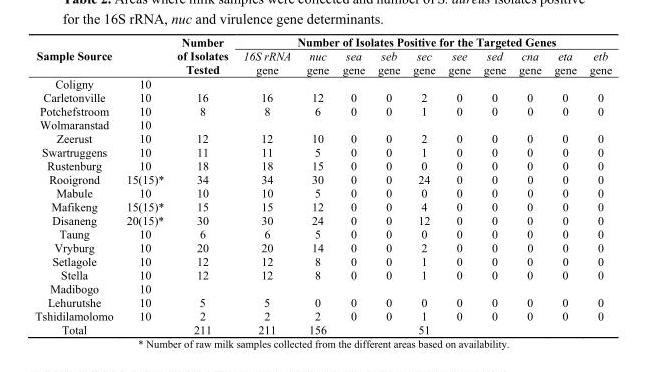table: (34, 34, 611, 335)
table column: (34, 34, 119, 335), (169, 34, 235, 335), (235, 34, 298, 335), (119, 34, 169, 335), (298, 34, 335, 335), (405, 34, 441, 335), (511, 34, 547, 335), (335, 34, 370, 335), (370, 34, 405, 335), (441, 34, 476, 335), (476, 34, 511, 335), (547, 34, 582, 335), (582, 34, 611, 335)
table column header: (34, 34, 611, 76)
table row: (34, 48, 611, 76), (34, 34, 611, 48), (34, 76, 611, 90), (34, 103, 611, 117), (34, 117, 611, 131), (34, 144, 611, 158), (34, 158, 611, 172), (34, 185, 611, 199), (34, 199, 611, 213), (34, 226, 611, 240), (34, 240, 611, 254), (34, 267, 611, 281), (34, 281, 611, 295), (34, 308, 611, 322), (34, 90, 611, 103), (34, 131, 611, 144), (34, 172, 611, 185), (34, 213, 611, 226), (34, 254, 611, 267), (34, 295, 611, 308), (34, 322, 611, 335)
table spanning cell: (235, 34, 611, 48), (34, 34, 119, 76), (169, 34, 235, 76)
